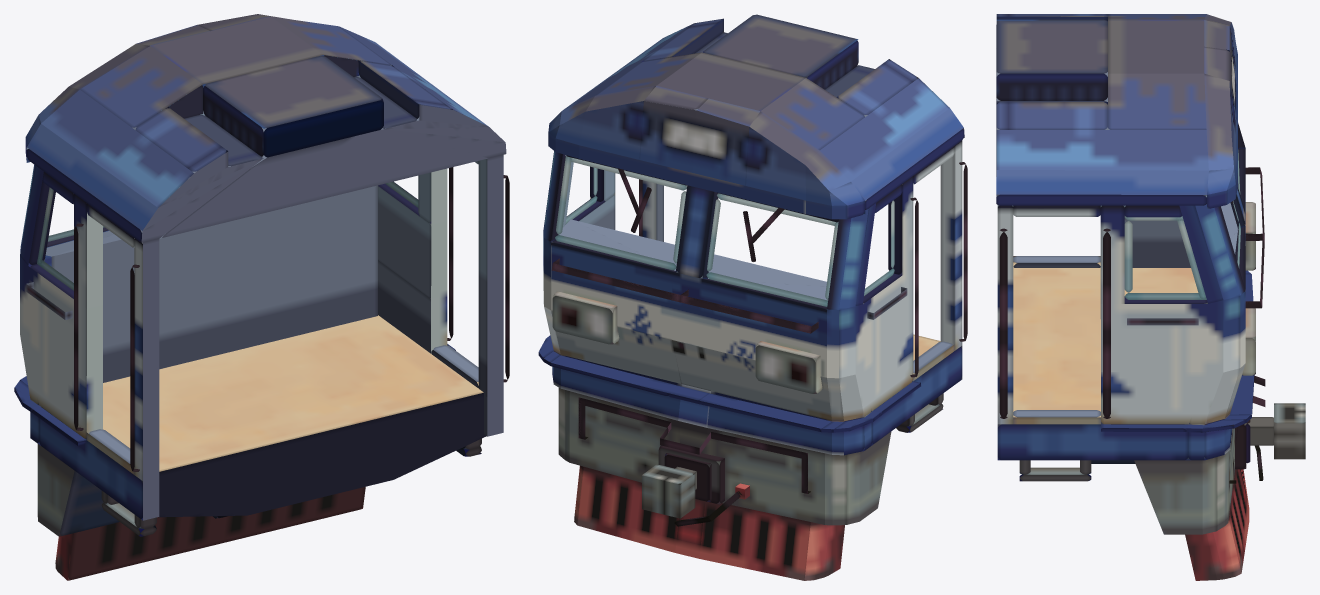
The model's file is df21_head_early.obj.
3 renders of one model, left to right at view 1: azimuth 30°, elevation 25°; view 2: azimuth 150°, elevation 25°; view 3: azimuth 270°, elevation 25°, orthographic. The views are drawn at different scales.
Visible parts, largest first — view 1: cube_selection; view 2: cube_selection; view 3: cube_selection.
Boxes of the visible parts, left/top/right/bottom form: cube_selection: left=14, top=14, right=509, bottom=580; cube_selection: left=538, top=14, right=967, bottom=580; cube_selection: left=996, top=14, right=1305, bottom=580.
Size of the model in its own units: 3.15 by 4.06 by 2.43.
